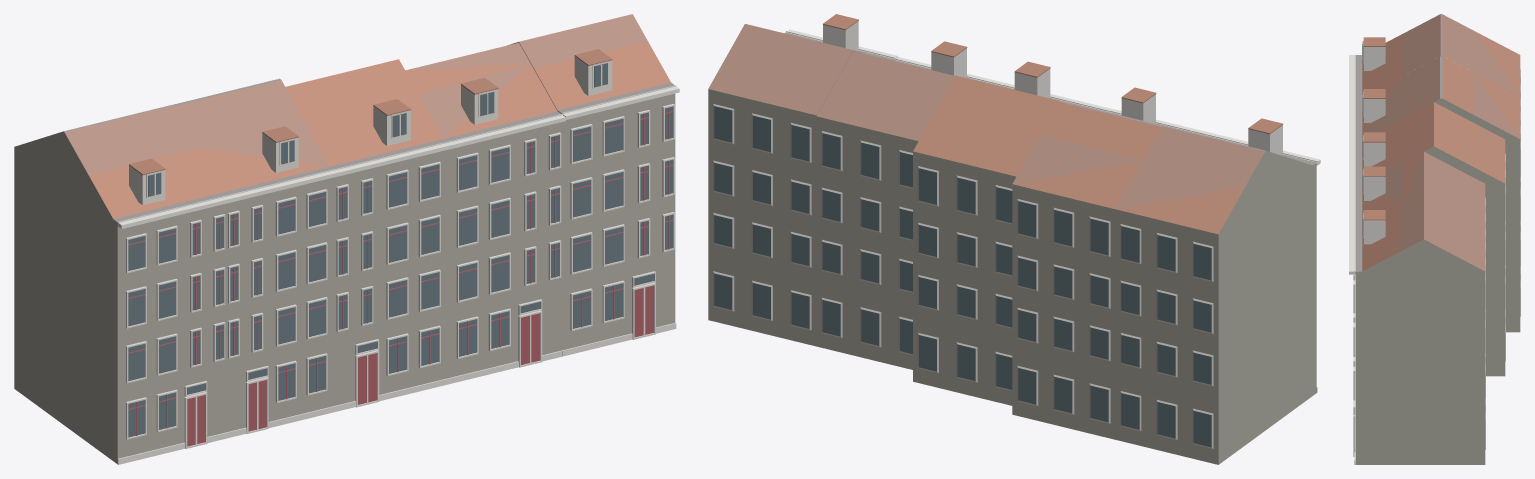
Rendered from chunk-face-lampong-2-20-r1.glb.
The picture shows the model from 3 angles, left to right: view 1: azimuth 30°, elevation 25°; view 2: azimuth 150°, elevation 25°; view 3: azimuth 270°, elevation 25°; orthographic projection. The views are drawn at different scales.
Visible parts, largest first — view 1: face-lampong-2-20-r1; view 2: face-lampong-2-20-r1; view 3: face-lampong-2-20-r1.
Part boxes in pixels (x1=…): face-lampong-2-20-r1: x1=14, y1=14, x2=679, y2=464; face-lampong-2-20-r1: x1=708, y1=14, x2=1320, y2=464; face-lampong-2-20-r1: x1=1349, y1=14, x2=1520, y2=464.
Bounding box in the file's own units: 30.9 × 15.53 × 10.34.
